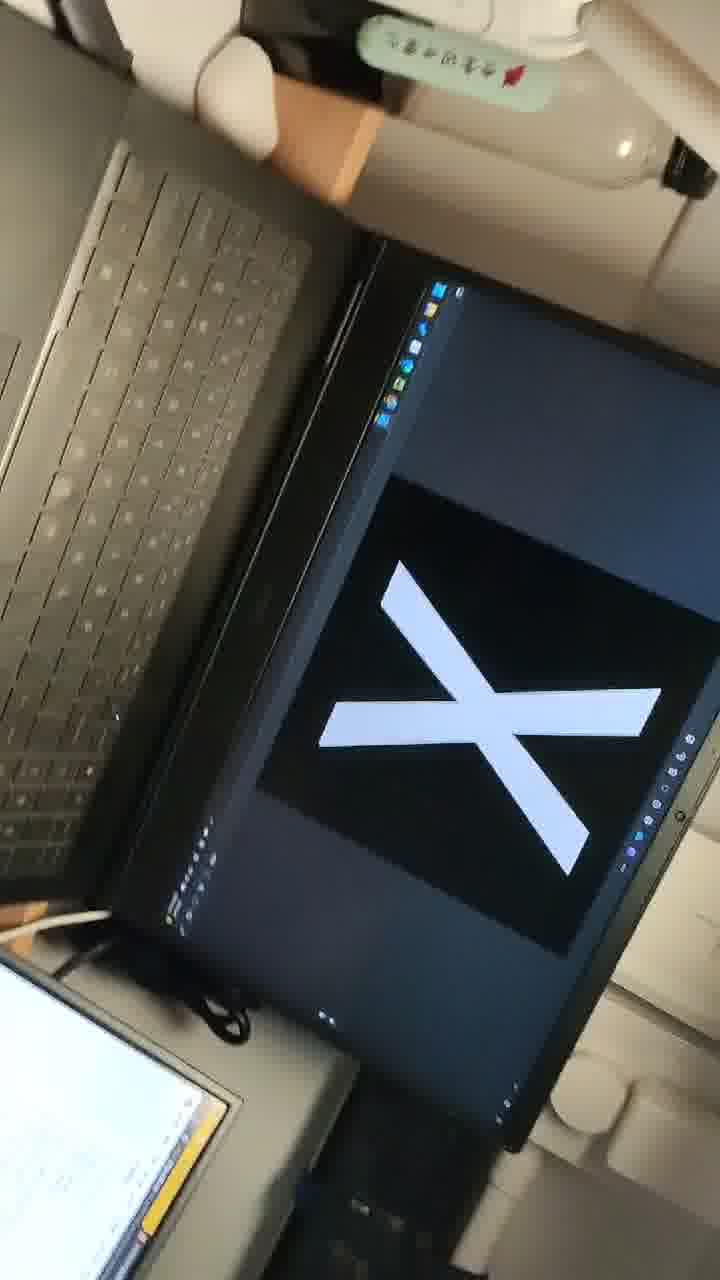X: (278, 491, 696, 934)
